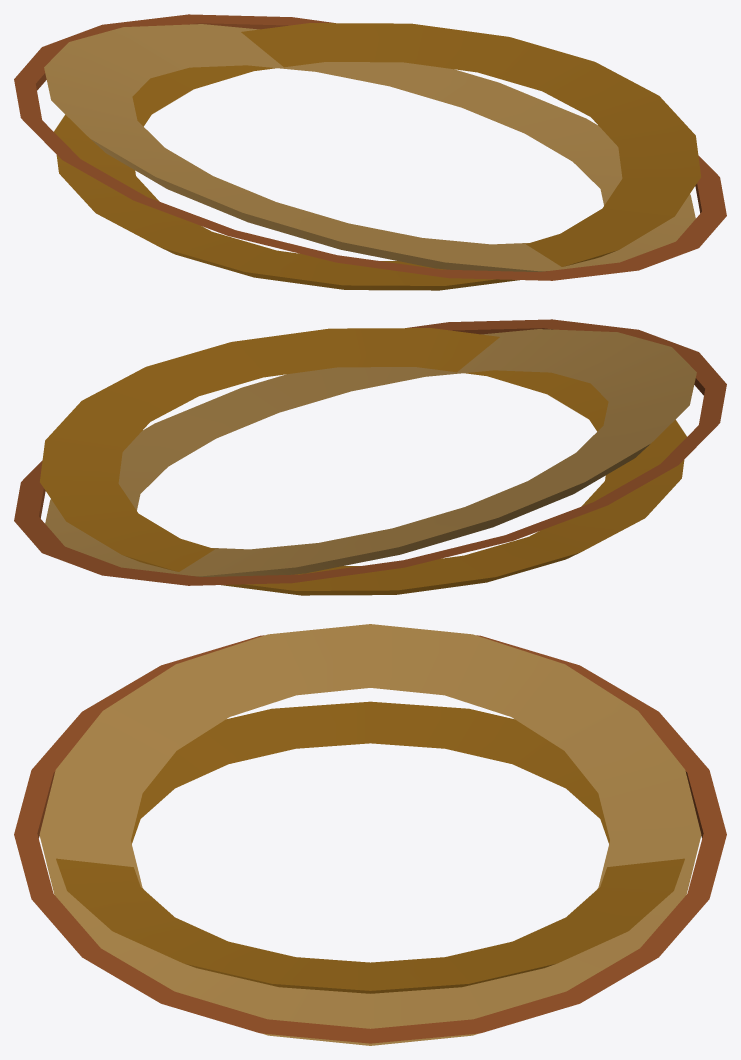
Rendered from hat_premium_Saturn.glb.
3 renders of one model, top to bottom at view 1: azimuth 30°, elevation 25°; view 2: azimuth 150°, elevation 25°; view 3: azimuth 270°, elevation 25°, orthographic. The views are drawn at different scales.
Parts seen in each view (by area): view 1: hat_premium_Saturn; view 2: hat_premium_Saturn; view 3: hat_premium_Saturn.
Part boxes in pixels (<box>): hat_premium_Saturn: <box>14,14,726,290</box>; hat_premium_Saturn: <box>14,319,726,595</box>; hat_premium_Saturn: <box>14,624,726,1045</box>.
Bounding box in the file's own units: 0.8307 × 0.2109 × 0.8489.
